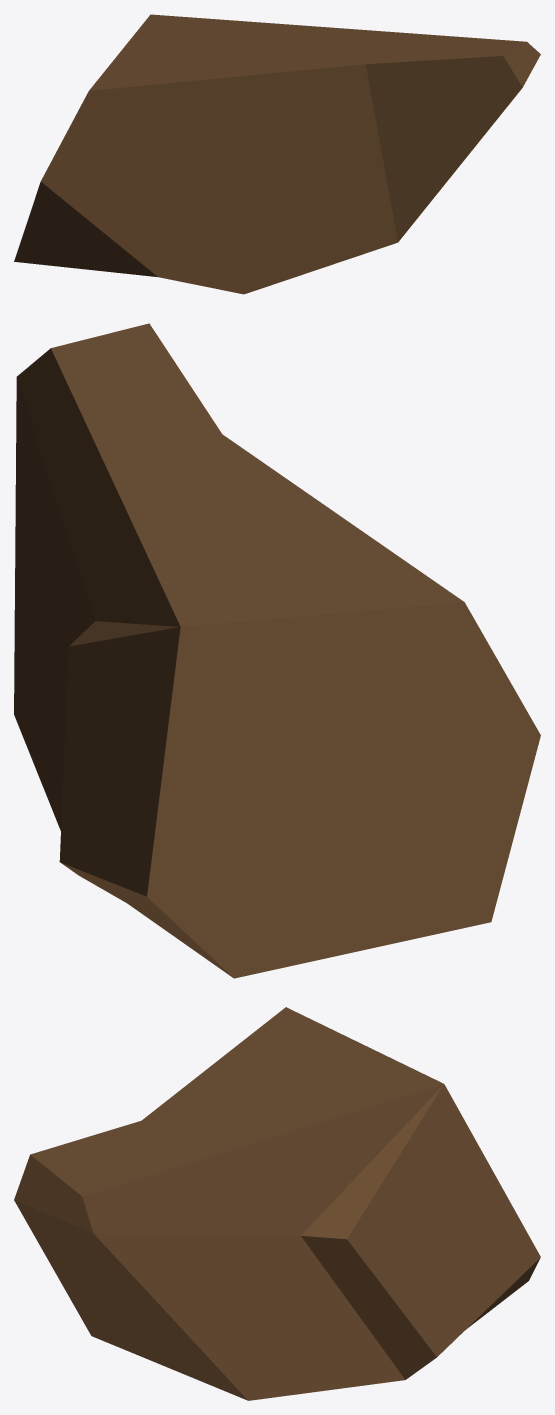
The model's file is stone-pointy_brown.glb.
The picture shows the model from 3 angles, top to bottom: view 1: azimuth 30°, elevation 25°; view 2: azimuth 150°, elevation 25°; view 3: azimuth 270°, elevation 25°; orthographic projection. The views are drawn at different scales.
Visible parts, largest first — view 1: stone-pointy_brown; view 2: stone-pointy_brown; view 3: stone-pointy_brown.
Part boxes in pixels (x1,y1,x2,y2): stone-pointy_brown: (14, 14, 540, 294); stone-pointy_brown: (14, 323, 540, 978); stone-pointy_brown: (14, 1007, 540, 1400).
Bounding box in the file's own units: 1.95 × 1.02 × 1.68.
